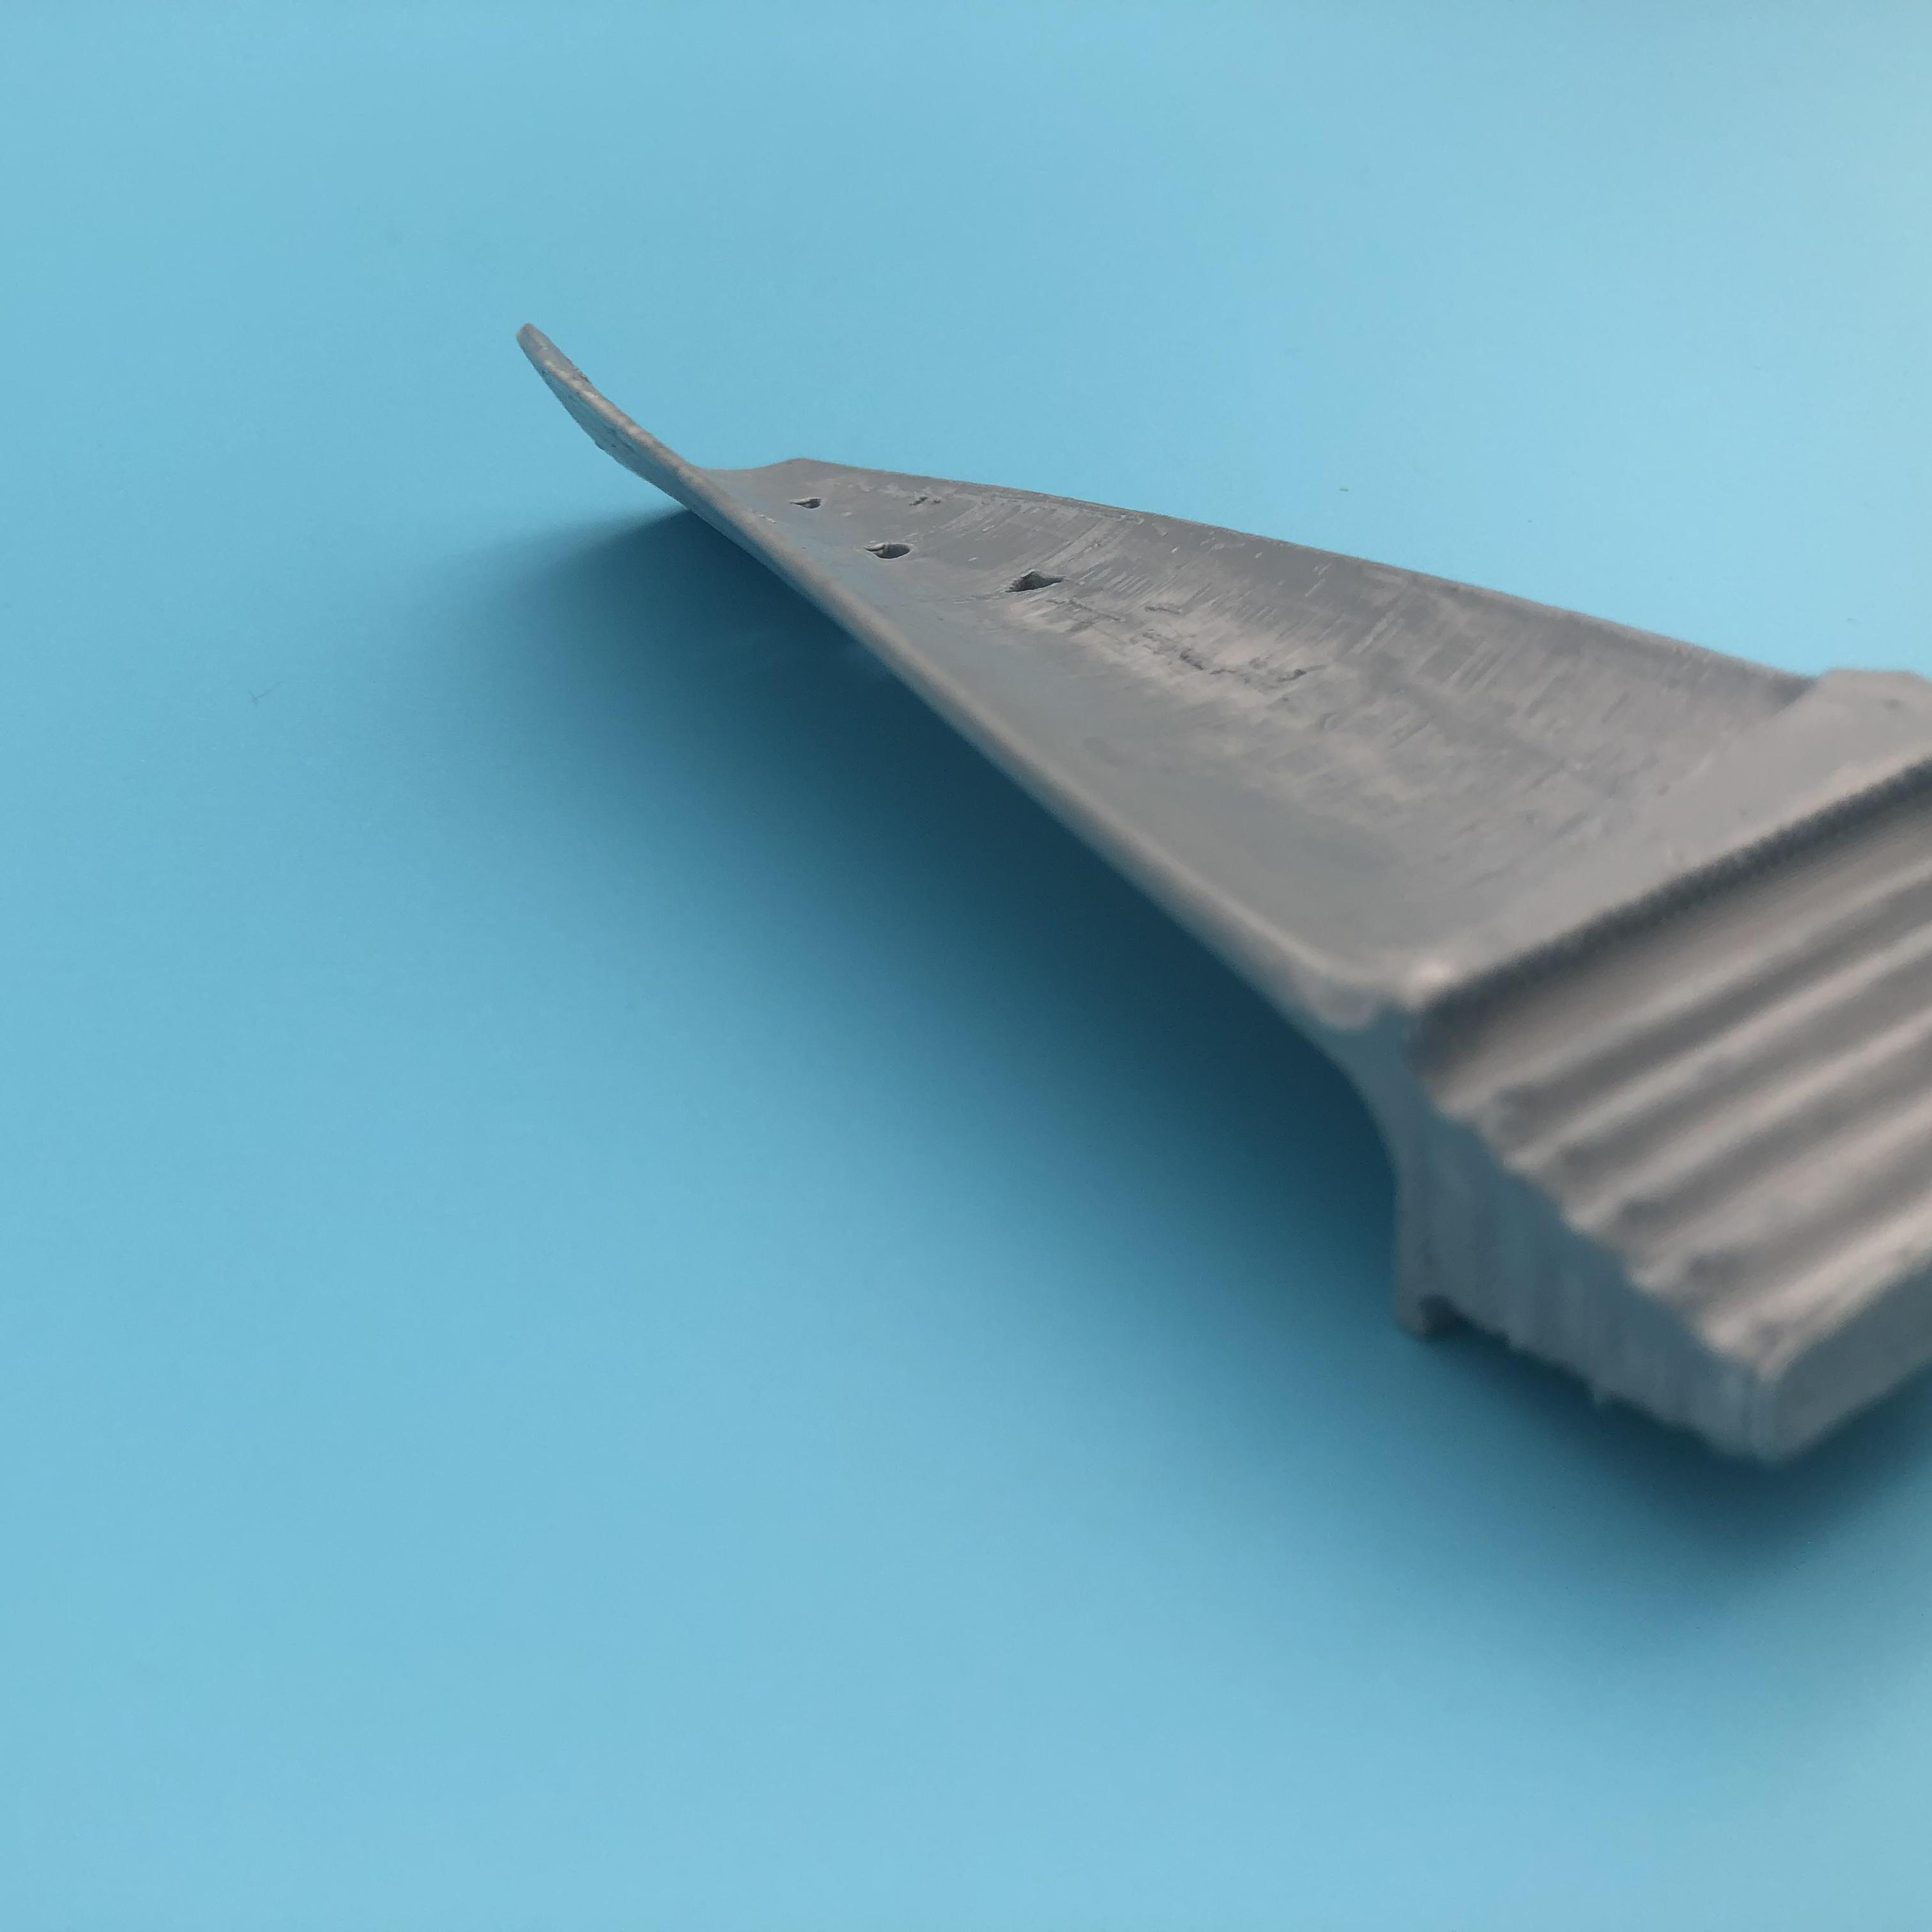breakdown: (794, 492, 1060, 600)
